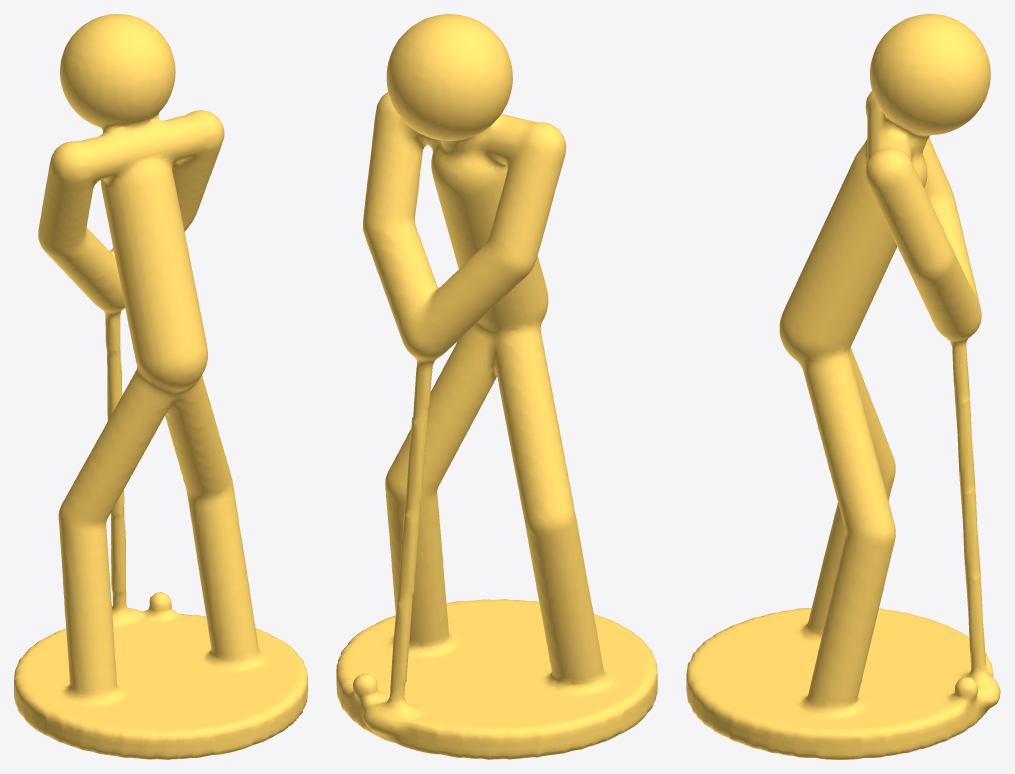
The model's file is golf.glb.
3 renders of one model, left to right at view 1: azimuth 30°, elevation 25°; view 2: azimuth 150°, elevation 25°; view 3: azimuth 270°, elevation 25°, orthographic. The views are drawn at different scales.
Visible parts, largest first — view 1: golf; view 2: golf; view 3: golf.
Part boxes in pixels (<box>): golf: <box>14,14,307,759</box>; golf: <box>336,14,657,759</box>; golf: <box>686,14,1000,759</box>.
Bounding box in the file's own units: 0.679 × 1.65 × 0.6949.
